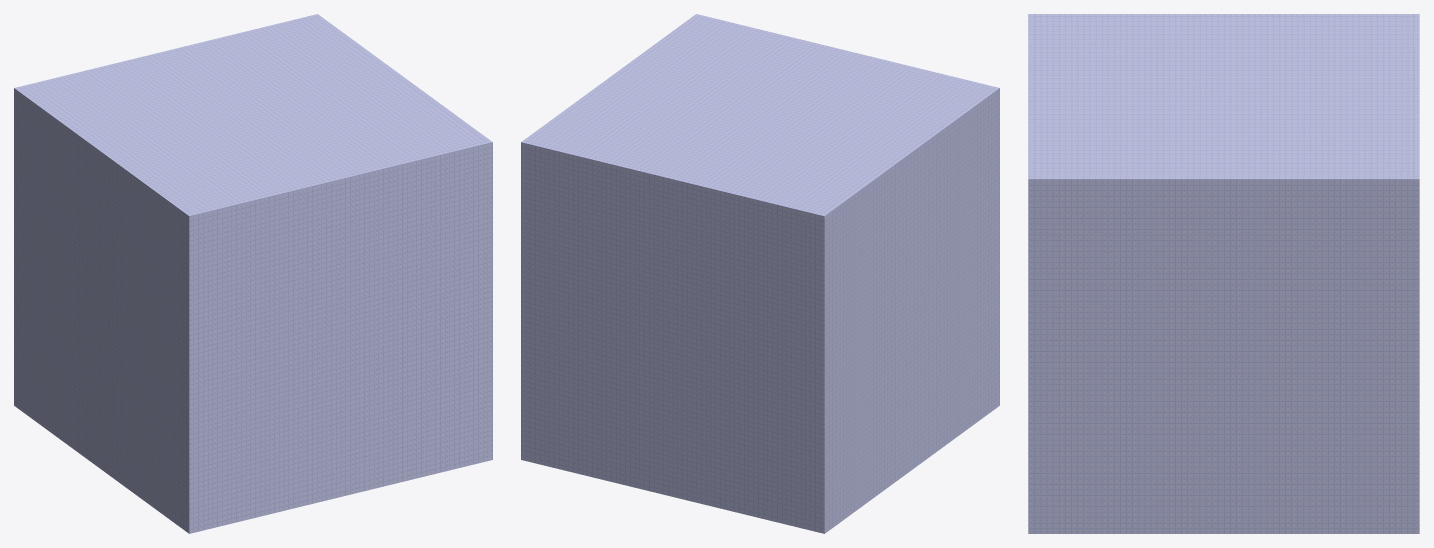
The model's file is test_map.obj.
3 renders of one model, left to right at view 1: azimuth 30°, elevation 25°; view 2: azimuth 150°, elevation 25°; view 3: azimuth 270°, elevation 25°, orthographic. The views are drawn at different scales.
Parts seen in each view (by area): view 1: 123, 127, 131, 145, 125, 129; view 2: 125, 146, 127, 131, 123, 129; view 3: 129, 131, 123, 125, 127.
Boxes of the visible parts, box(x1,y1,x2,y2) form: 123: box(186, 140, 492, 533); 127: box(17, 89, 190, 531); 131: box(22, 17, 484, 212); 145: box(199, 155, 482, 521); 125: box(14, 14, 319, 407); 129: box(316, 16, 489, 141); 125: box(521, 140, 827, 533); 146: box(530, 155, 814, 521); 127: box(823, 89, 996, 531); 131: box(529, 17, 991, 212); 123: box(694, 14, 999, 407); 129: box(524, 16, 697, 141); 129: box(1034, 176, 1413, 533); 131: box(1034, 16, 1413, 176); 123: box(1028, 14, 1034, 533); 125: box(1413, 14, 1419, 533); 127: box(1034, 14, 1413, 16).
Size of the model in its own units: 2048 by 2048 by 2048.
2 materials, 2 textured.
